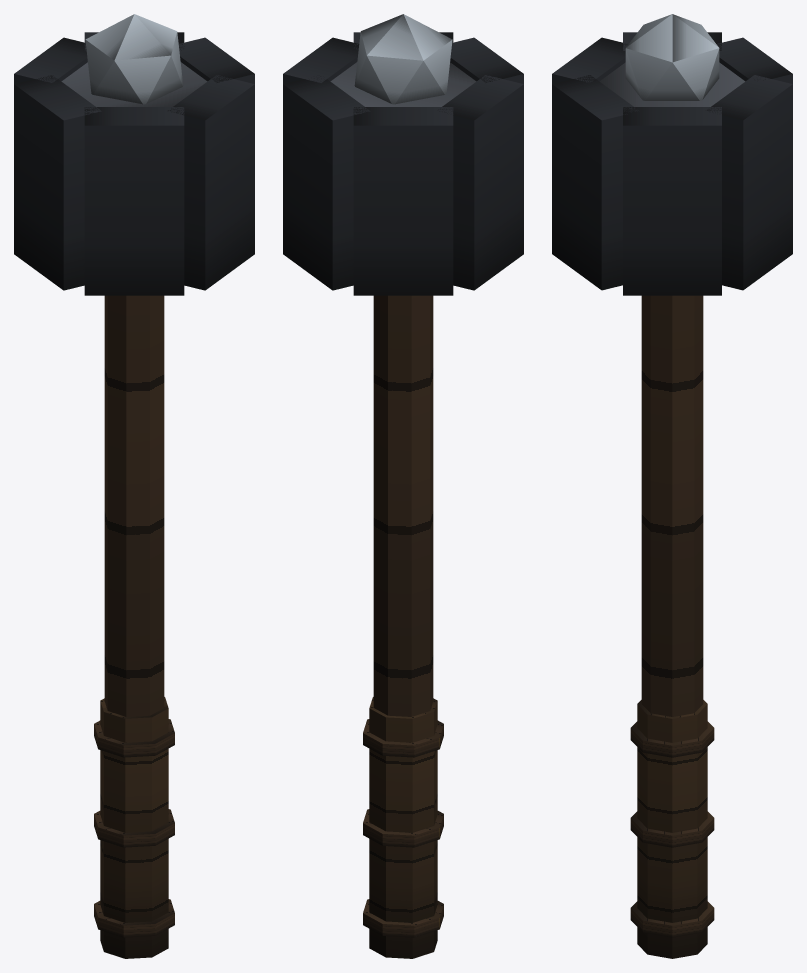
Rendered from mace.gltf.
The picture shows the model from 3 angles, left to right: view 1: azimuth 30°, elevation 25°; view 2: azimuth 150°, elevation 25°; view 3: azimuth 270°, elevation 25°; orthographic projection.
Parts seen in each view (by area): view 1: mace; view 2: mace; view 3: mace.
Boxes of the visible parts, box(x1,y1,x2,y2) form: mace: box(14, 14, 254, 958); mace: box(283, 14, 523, 958); mace: box(552, 14, 792, 958).
Bounding box in the file's own units: 0.2 × 0.93 × 0.2182.
1 material, 1 textured.
